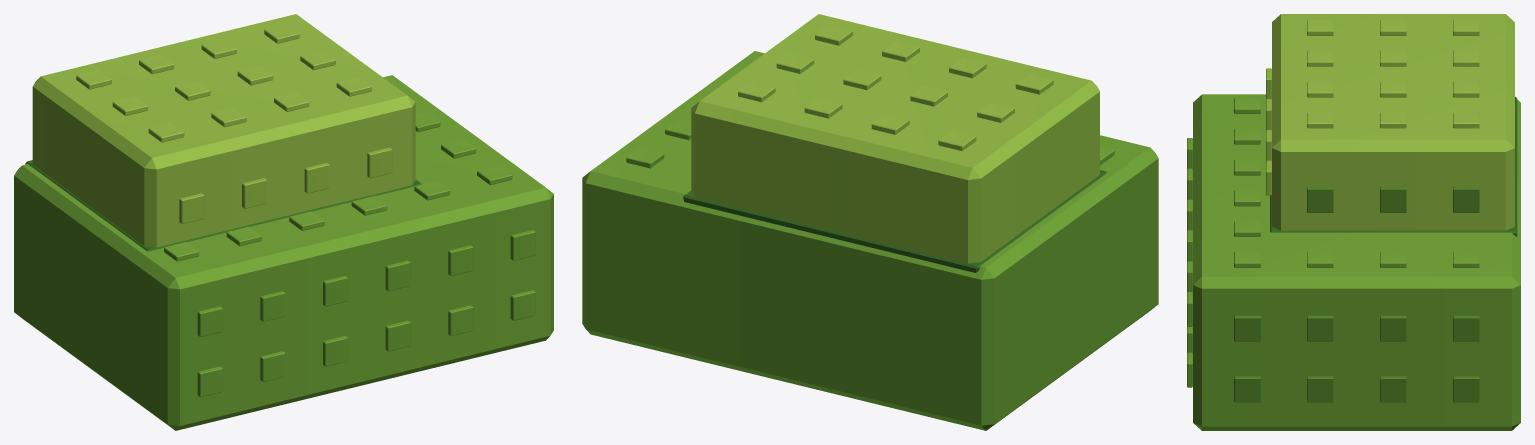
File: BrickBush.glb
3 views of the same model, side by side, from view 1: azimuth 30°, elevation 25°; view 2: azimuth 150°, elevation 25°; view 3: azimuth 270°, elevation 25° (orthographic). The views are drawn at different scales.
Parts seen in each view (by area): view 1: BrickBush; view 2: BrickBush; view 3: BrickBush.
Boxes of the visible parts, <box> form: BrickBush: <box>14,14,553,430</box>; BrickBush: <box>582,14,1158,430</box>; BrickBush: <box>1187,14,1520,430</box>.
Bounding box in the file's own units: 3.75 × 2.25 × 2.75.
Materials: 1 (1 with a texture image).
